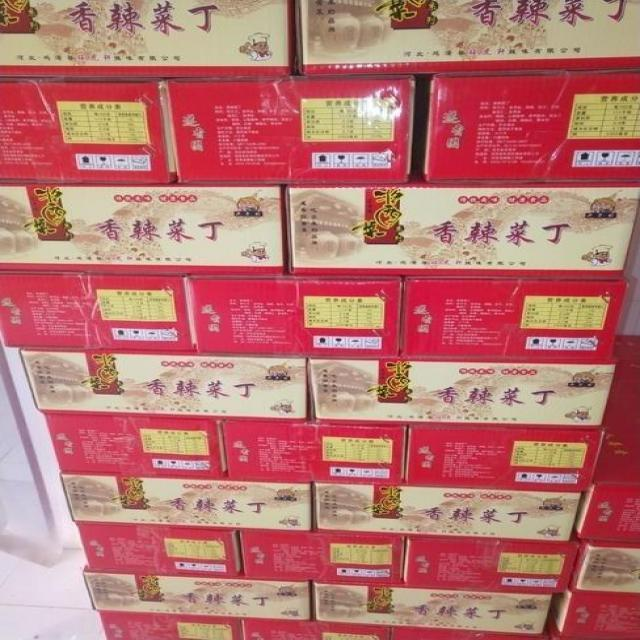box: (281, 181, 640, 277), (161, 77, 427, 185), (0, 181, 287, 279), (295, 0, 640, 81), (415, 70, 640, 183), (0, 0, 304, 83), (2, 345, 312, 423), (306, 351, 614, 429), (402, 271, 634, 366), (186, 268, 402, 364), (0, 71, 176, 186), (304, 565, 560, 637), (311, 472, 581, 540), (55, 469, 316, 532), (221, 409, 409, 496), (0, 271, 191, 353), (80, 560, 308, 623), (41, 409, 232, 479), (408, 432, 612, 490), (399, 529, 578, 595), (230, 525, 409, 591), (74, 521, 252, 575)
